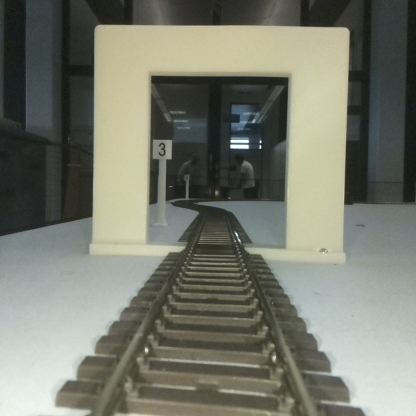white-info-3: (153, 139, 172, 224)
